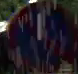No Stopping: (6, 0, 72, 73)
